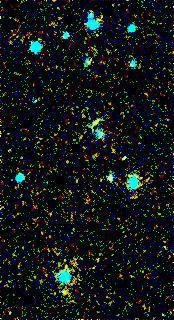star: (48, 279, 78, 309)
